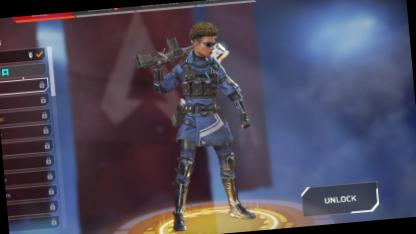Target: (178, 17, 234, 163)
